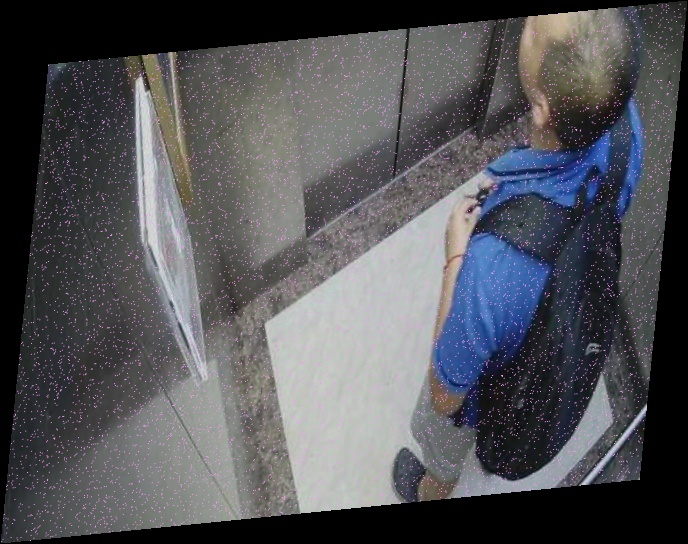bag: (468, 143, 637, 486)
person: (389, 6, 665, 514)
